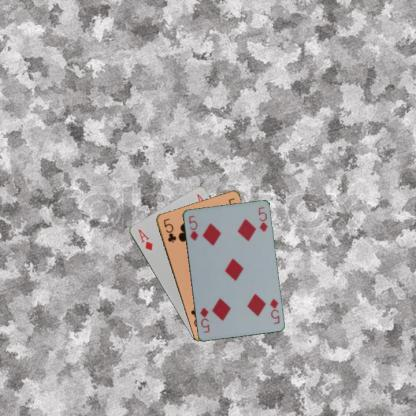5c: (160, 215, 178, 244)
5d: (267, 296, 281, 325), (186, 212, 199, 242)
Ad: (135, 226, 154, 252)
